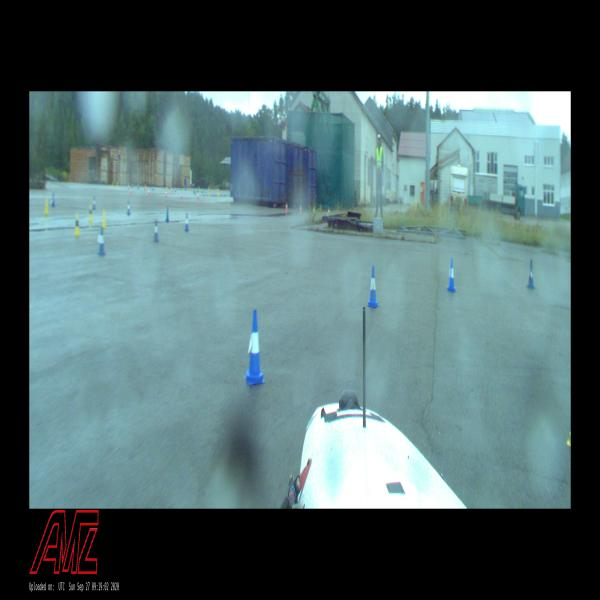blue_cone: (246, 310, 265, 386), (367, 264, 379, 310), (447, 257, 456, 293), (527, 260, 534, 290), (98, 227, 104, 254), (153, 220, 159, 243), (184, 213, 190, 232), (165, 205, 169, 223), (126, 201, 131, 215), (52, 193, 56, 207), (92, 195, 96, 209)
orange_cone: (164, 188, 168, 198), (284, 202, 288, 211), (299, 204, 302, 213), (197, 191, 199, 200), (180, 191, 182, 200), (148, 187, 150, 196)
yellow_cone: (75, 212, 80, 238), (44, 199, 49, 215), (102, 210, 106, 228), (89, 205, 93, 222)
